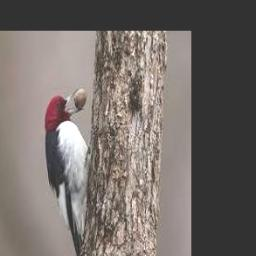Woodpecker: (45, 87, 90, 256)
